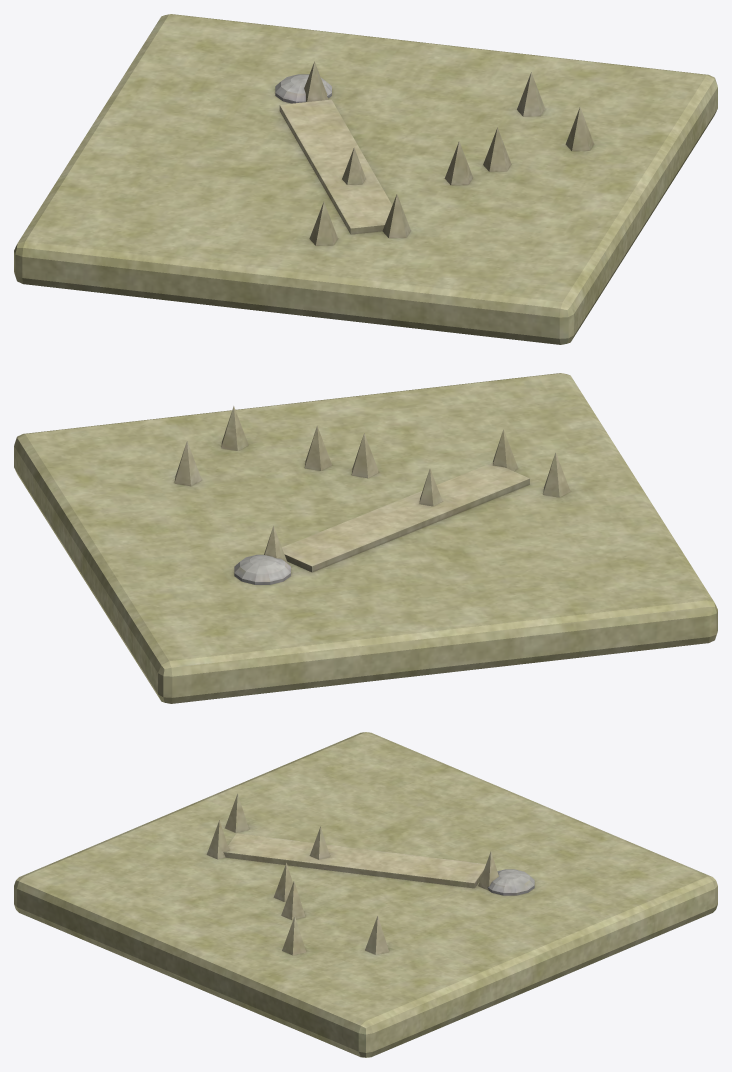
Rendered from sarn_plains.glb.
3 views of the same model, one above another, from view 1: azimuth 30°, elevation 25°; view 2: azimuth 150°, elevation 25°; view 3: azimuth 270°, elevation 25° (orthographic). The views are drawn at different scales.
Visible parts, largest first — view 1: dilek; view 2: dilek; view 3: dilek.
Part boxes in pixels (x1,y1,x2,y2): dilek: (14, 14, 717, 344); dilek: (14, 373, 717, 703); dilek: (14, 732, 717, 1057).
Bounding box in the file's own units: 2.42 × 0.27 × 2.42.
1 material, 1 textured.
